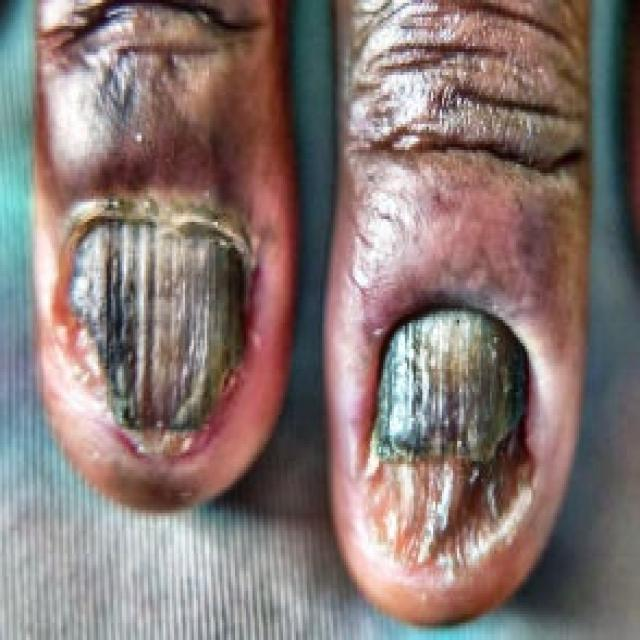Psoriasis-pictures-Lichen-Planus: (27, 32, 596, 593)
